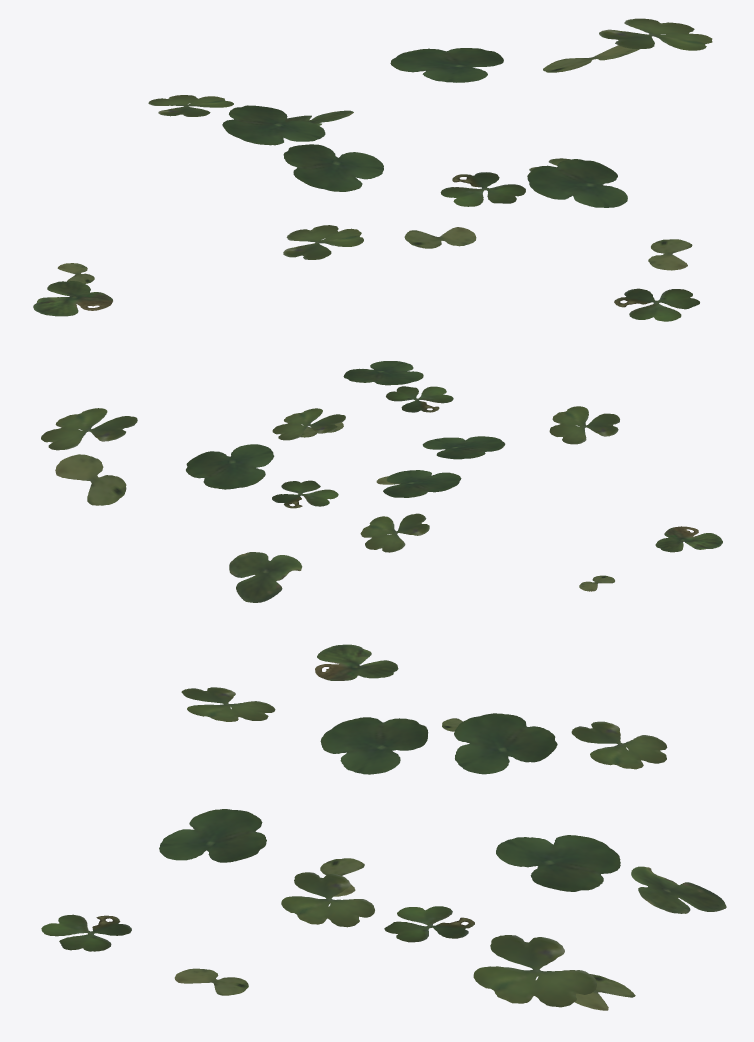
The model's file is arden_forest_sorrel_01_foliage.fbx.
The picture shows the model from 3 angles, top to bottom: view 1: azimuth 30°, elevation 25°; view 2: azimuth 150°, elevation 25°; view 3: azimuth 270°, elevation 25°; orthographic projection. The views are drawn at different scales.
Visible parts, largest first — view 1: arden_forest_sorrel_01_foliage; view 2: arden_forest_sorrel_01_foliage; view 3: arden_forest_sorrel_01_foliage.
Part boxes in pixels (bbox=[...]): arden_forest_sorrel_01_foliage: bbox=[33, 18, 712, 321]; arden_forest_sorrel_01_foliage: bbox=[41, 361, 722, 602]; arden_forest_sorrel_01_foliage: bbox=[41, 644, 726, 1010].
Bounding box in the file's own units: 78.63 × 10.57 × 58.81.
